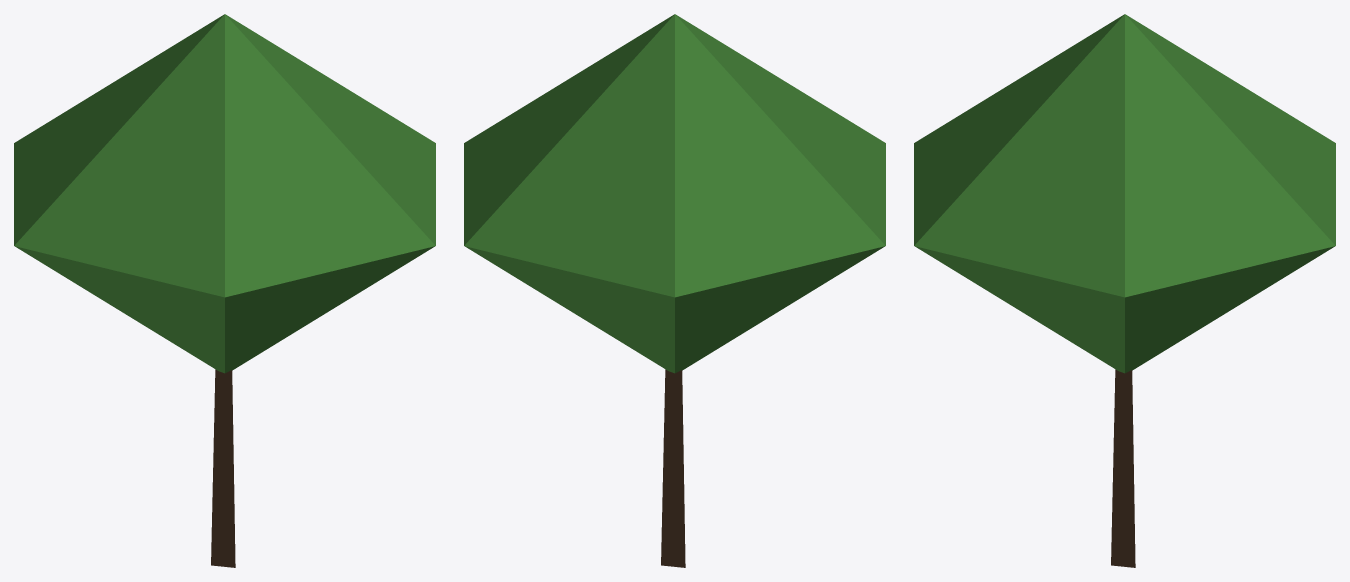
The model's file is chene_loin.glb.
3 views of the same model, side by side, from view 1: azimuth 30°, elevation 25°; view 2: azimuth 150°, elevation 25°; view 3: azimuth 270°, elevation 25° (orthographic).
Visible parts, largest first — view 1: chene_loin; view 2: chene_loin; view 3: chene_loin.
Part boxes in pixels (x1,y1,x2,y2): chene_loin: (14,14,435,567); chene_loin: (464,14,885,567); chene_loin: (914,14,1335,567).
Size of the model in its own units: 11 by 13.7 by 9.53.
Materials: 1 (1 with a texture image).
